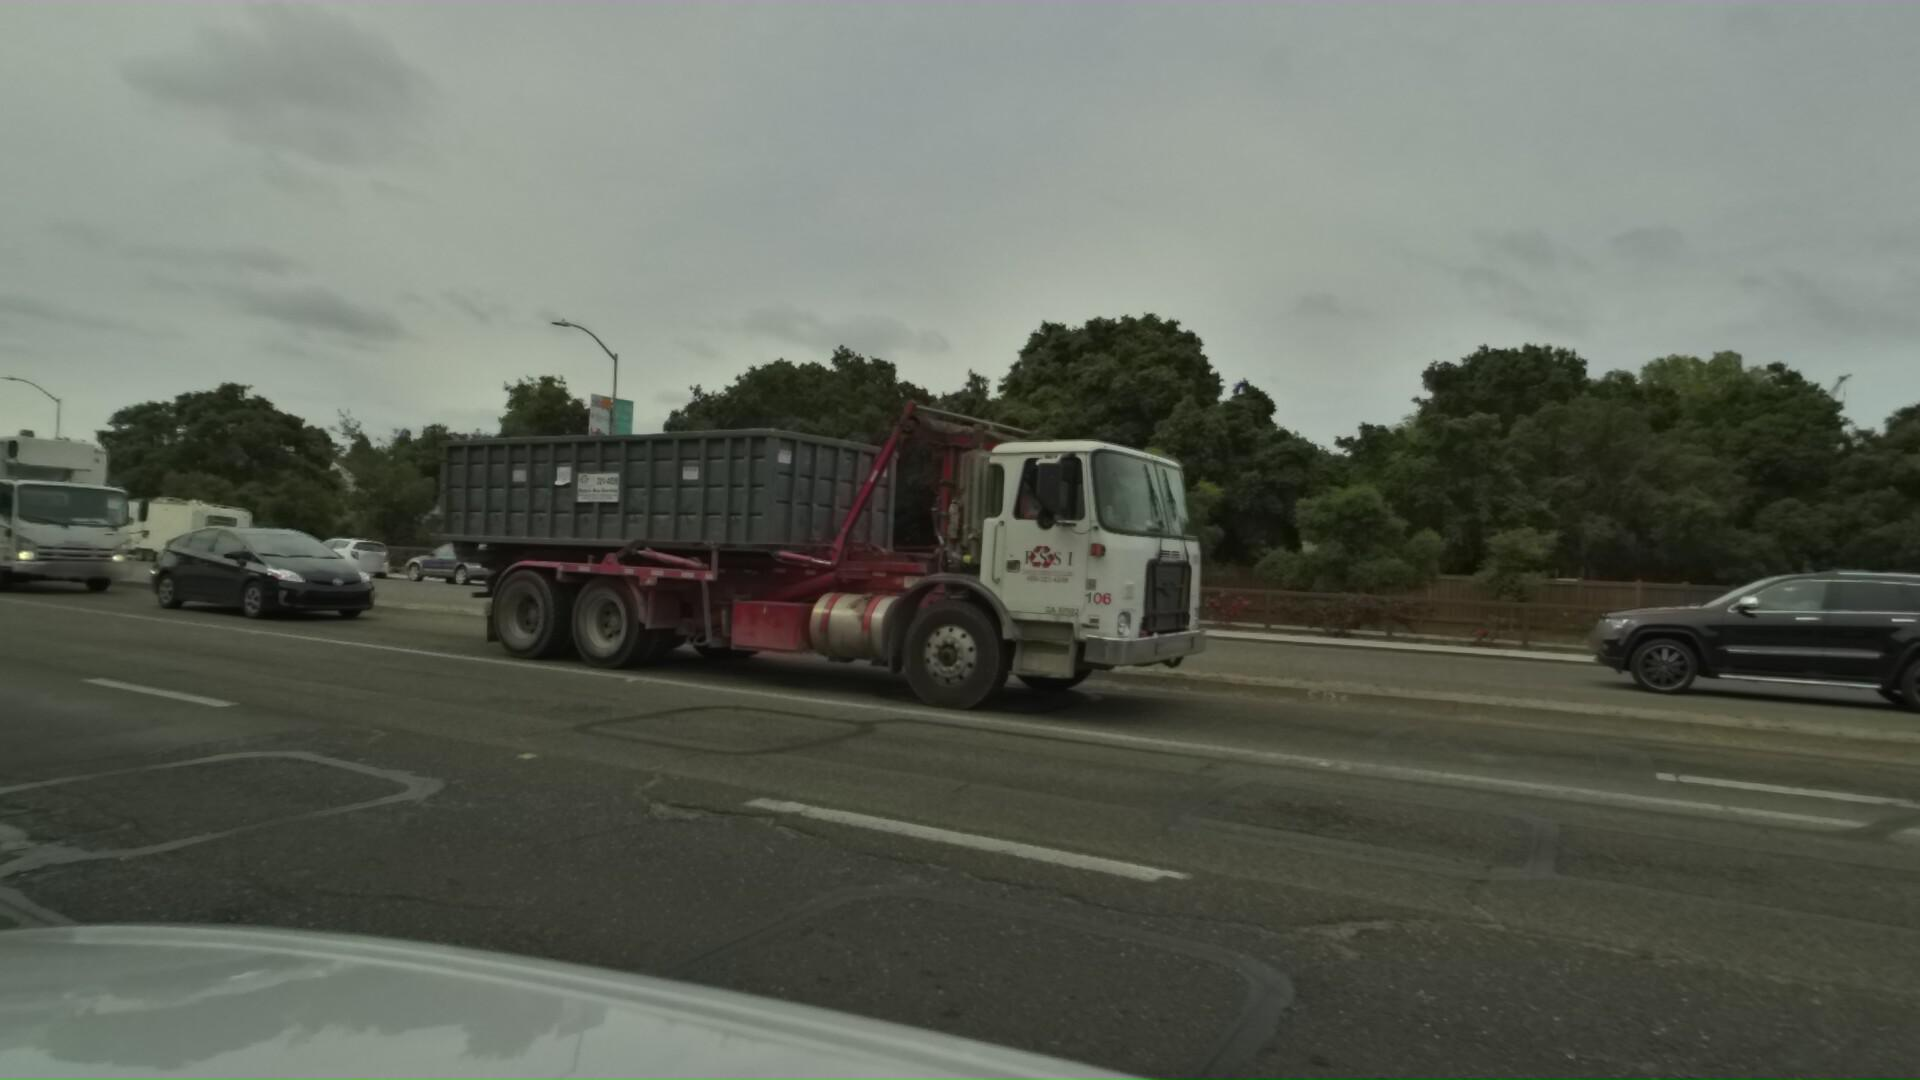car: (1485, 554, 1904, 711), (117, 520, 368, 626), (534, 516, 782, 622), (807, 535, 1021, 622), (382, 537, 518, 591), (280, 533, 392, 582)
other_vehicle: (75, 497, 249, 572)
truck: (363, 349, 1197, 731)
